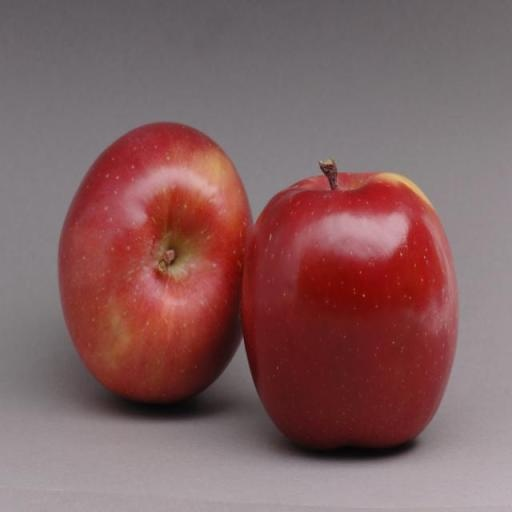fruit: (242, 161, 456, 448), (58, 124, 251, 402)
